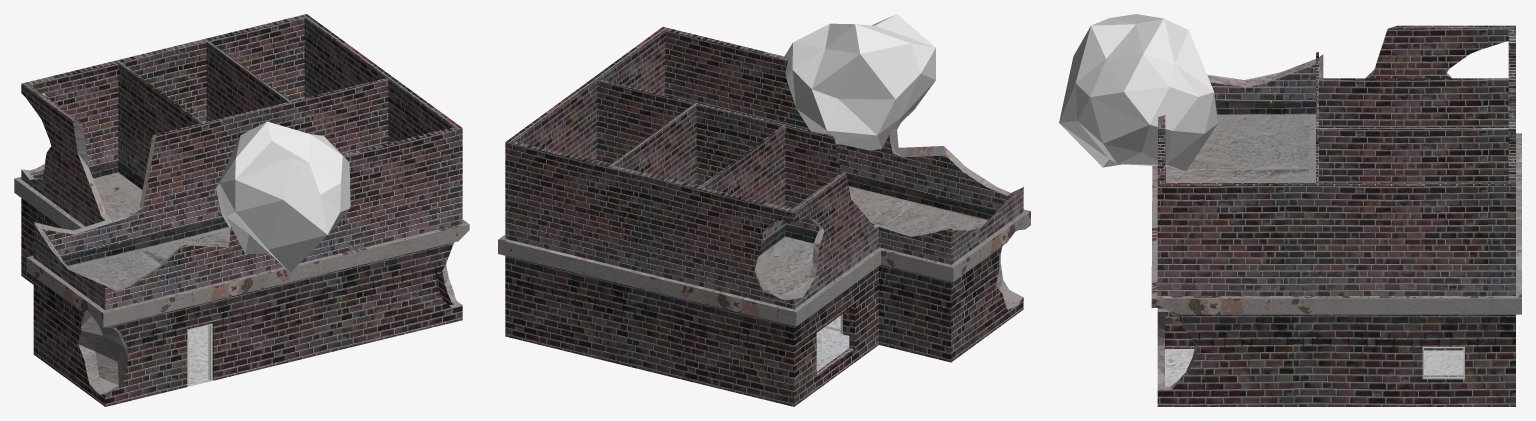
The model's file is house_1.fbx.
3 views of the same model, side by side, from view 1: azimuth 30°, elevation 25°; view 2: azimuth 150°, elevation 25°; view 3: azimuth 270°, elevation 25° (orthographic). The views are drawn at different scales.
Visible parts, largest first — view 1: Room.001, Room, Icosphere, Ceiling, Floor, DoorFrame.003; view 2: Room.001, Room, Icosphere, Ceiling, Floor; view 3: Room.001, Room, Icosphere, Ceiling, Floor.
Boxes of the visible parts, x1,y1,x2,y2 form: Room.001: [21, 14, 462, 310]; Room: [14, 177, 469, 406]; Icosphere: [216, 121, 350, 272]; Ceiling: [68, 172, 230, 289]; Floor: [187, 325, 212, 386]; DoorFrame.003: [187, 323, 212, 385]; Room.001: [505, 27, 1023, 308]; Room: [498, 209, 1030, 406]; Icosphere: [784, 14, 935, 150]; Ceiling: [756, 186, 987, 298]; Floor: [816, 315, 849, 371]; Room.001: [1157, 25, 1515, 295]; Room: [1151, 133, 1521, 406]; Icosphere: [1059, 14, 1217, 171]; Ceiling: [1157, 114, 1315, 311]; Floor: [1165, 349, 1463, 386].
Size of what is drawn, in the model's own units: 1395 by 892 by 1329.
